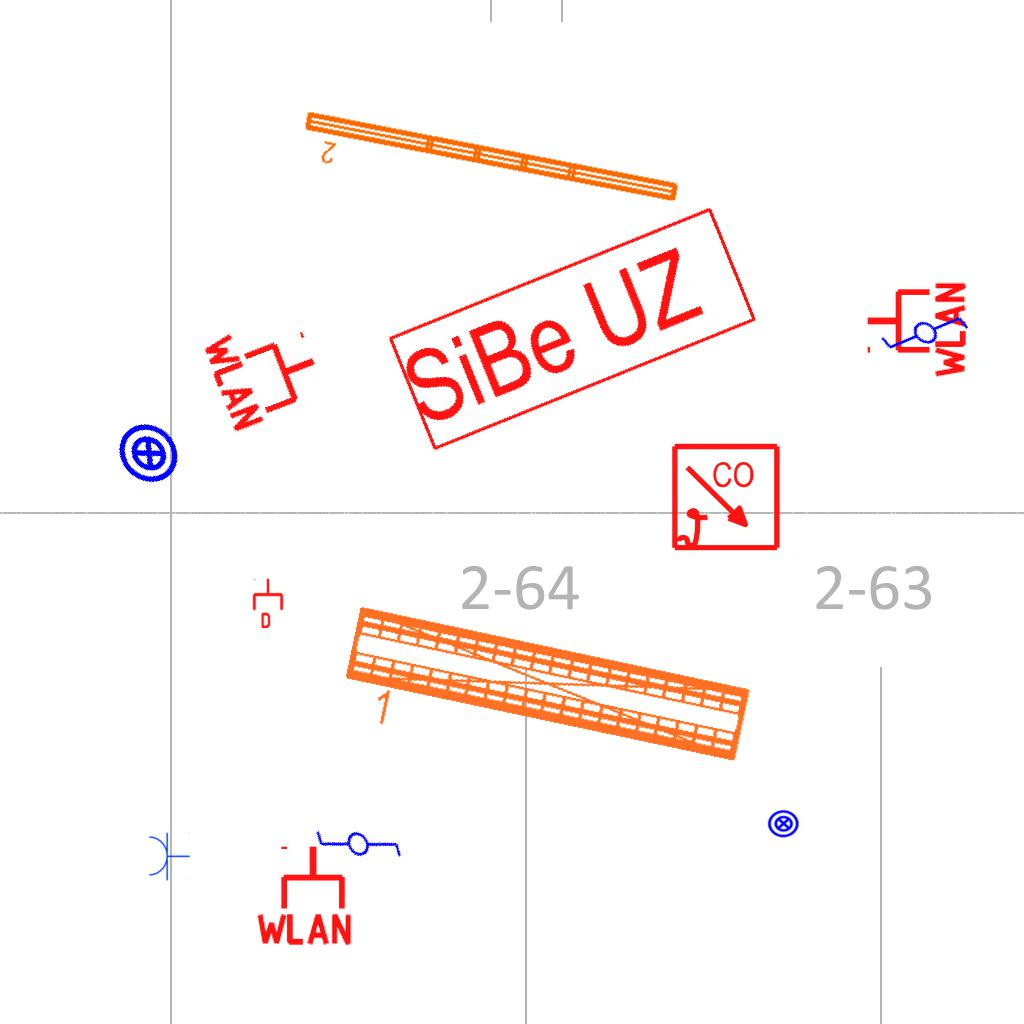Ambulanz_Pendelleuchte_LED: (294, 104, 685, 234)
Buero_Pendelleuchten_LED: (328, 595, 761, 809)
Datenanschluss_einfach: (251, 578, 285, 628)
ROA_Rauchmelder_optisch_mit_Signalgeber_(Sockelsirene): (670, 442, 783, 555)
Schukosteckdose_einfach: (147, 831, 190, 881)
Taster_beleuchtet: (102, 406, 196, 500), (767, 807, 800, 840)
WLAN: (197, 302, 334, 438), (252, 842, 356, 947), (863, 278, 968, 382)
Wechselschalter: (305, 787, 409, 893), (875, 284, 981, 388)
Zentrale_Sicherheitsbeleuchtung: (383, 201, 764, 457)
